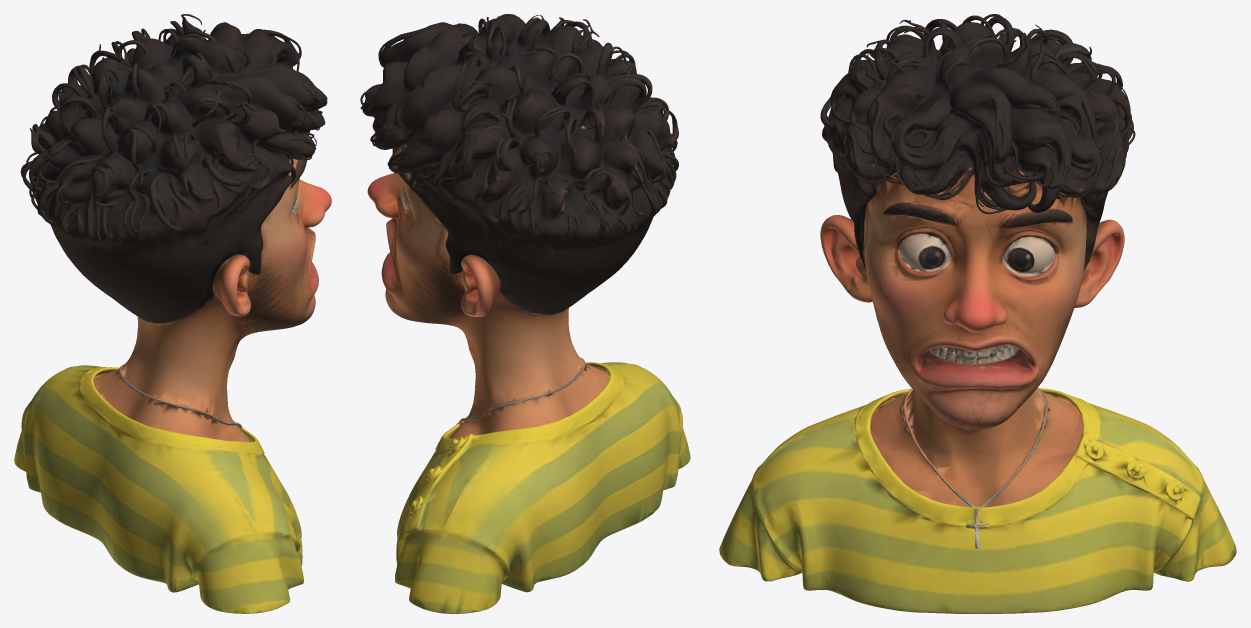
The model's file is me-phone.glb.
3 renders of one model, left to right at view 1: azimuth 30°, elevation 25°; view 2: azimuth 150°, elevation 25°; view 3: azimuth 270°, elevation 25°, orthographic. The views are drawn at different scales.
Parts seen in each view (by area): view 1: tripo_node_f44bd8b4-881b-4704-9daa-470040321a52; view 2: tripo_node_f44bd8b4-881b-4704-9daa-470040321a52; view 3: tripo_node_f44bd8b4-881b-4704-9daa-470040321a52.
Part boxes in pixels (left/top/right/bottom): tripo_node_f44bd8b4-881b-4704-9daa-470040321a52: left=14, top=14, right=331, bottom=613; tripo_node_f44bd8b4-881b-4704-9daa-470040321a52: left=360, top=14, right=690, bottom=613; tripo_node_f44bd8b4-881b-4704-9daa-470040321a52: left=719, top=14, right=1236, bottom=613.
Size of the model in its own units: 0.607 by 0.9787 by 0.8401.
1 material, 1 textured.
